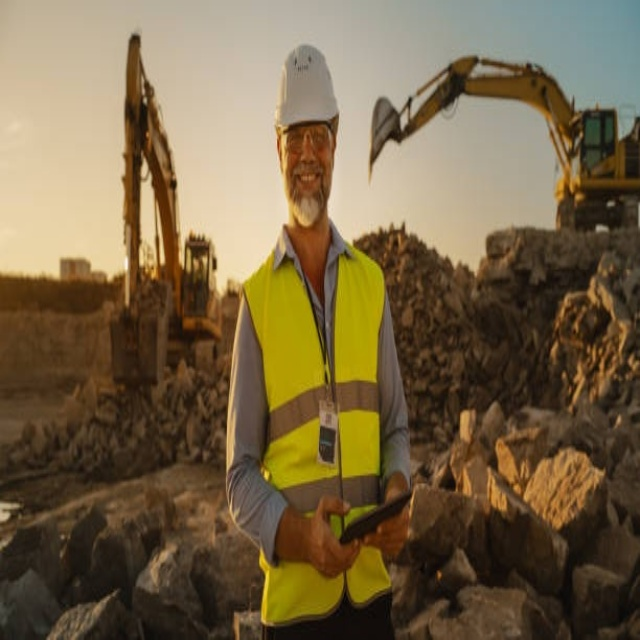Gafas: (280, 121, 335, 153)
Sin_guantes: (304, 493, 361, 577), (359, 486, 411, 564)
Sin_mascara: (294, 162, 324, 208)
